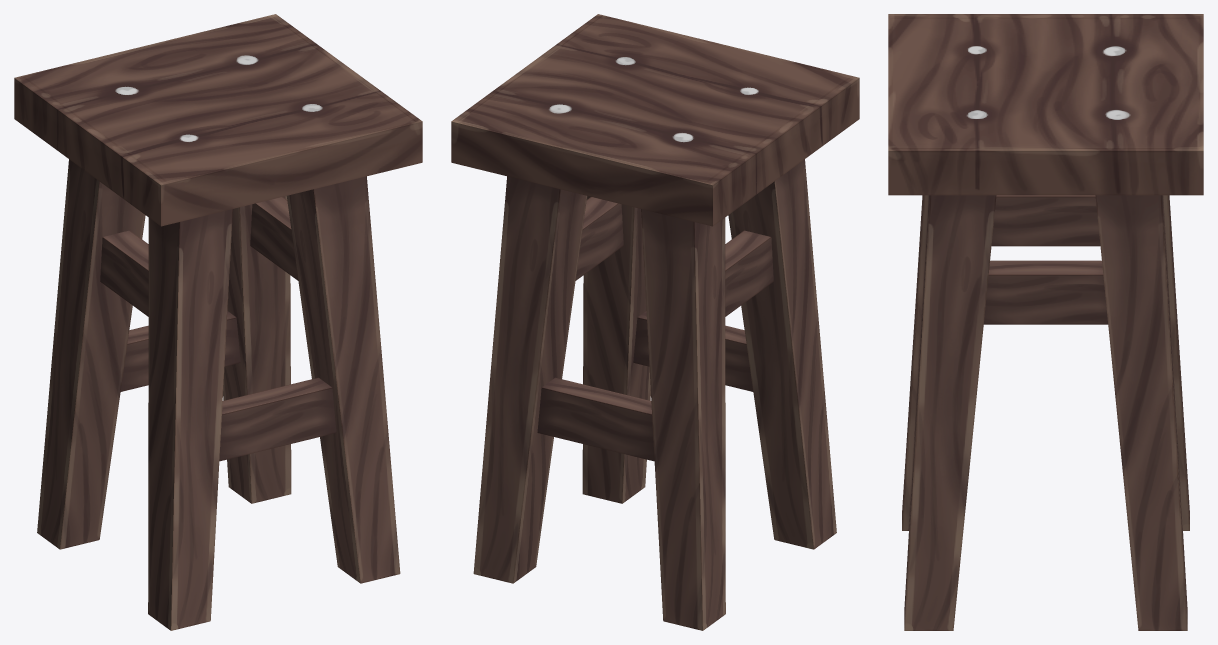
File: tall_stool.glb
3 views of the same model, side by side, from view 1: azimuth 30°, elevation 25°; view 2: azimuth 150°, elevation 25°; view 3: azimuth 270°, elevation 25° (orthographic). The views are drawn at different scales.
Visible parts, largest first — view 1: tall_stool; view 2: tall_stool; view 3: tall_stool.
Part boxes in pixels (left/top/right/bottom): tall_stool: left=14, top=14, right=422, bottom=630; tall_stool: left=451, top=14, right=859, bottom=630; tall_stool: left=888, top=14, right=1203, bottom=630.
Bounding box in the file's own units: 0.4 × 0.6636 × 0.389.
1 material, 1 textured.
